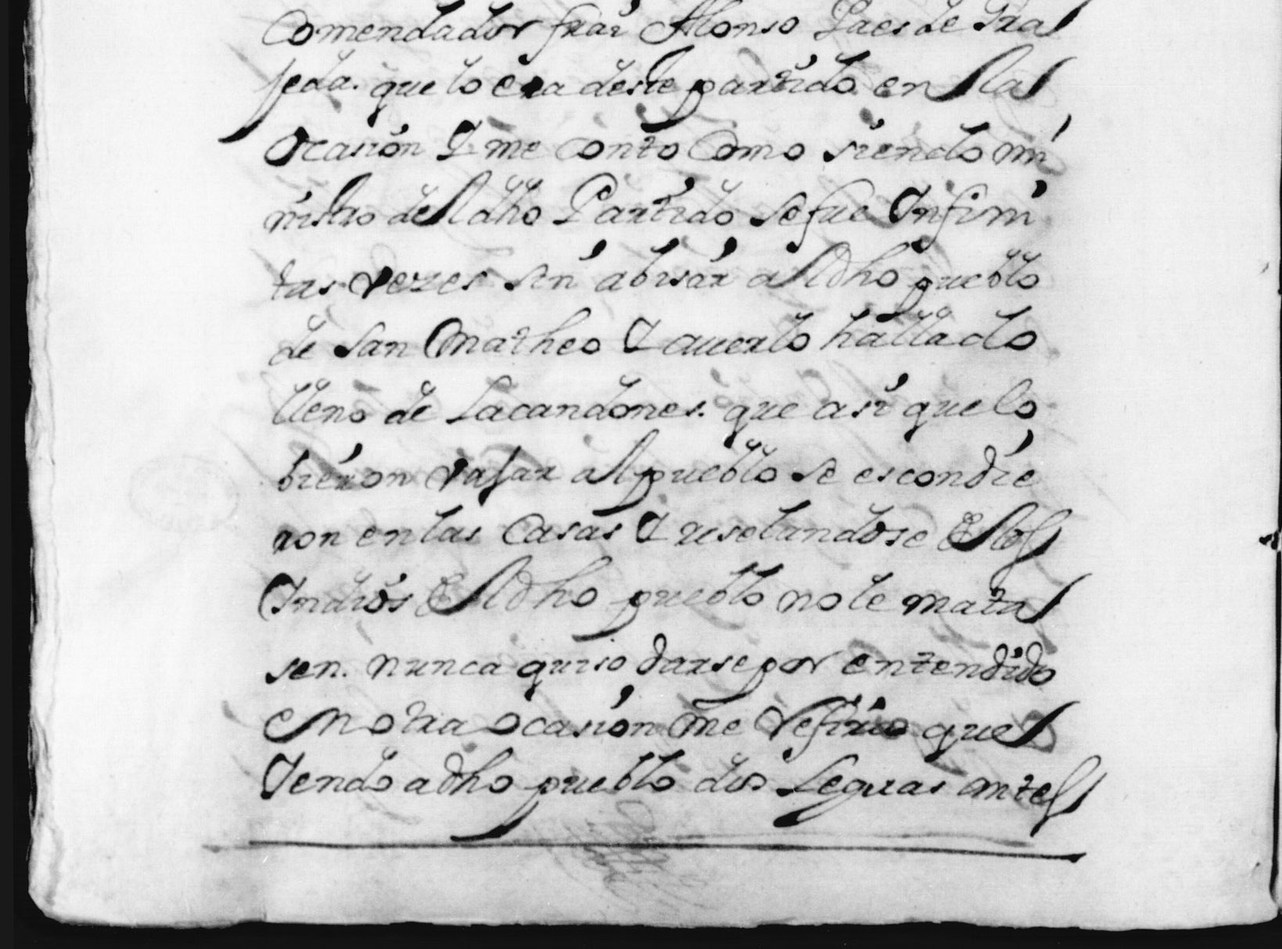lacandon: (445, 374, 706, 424)
